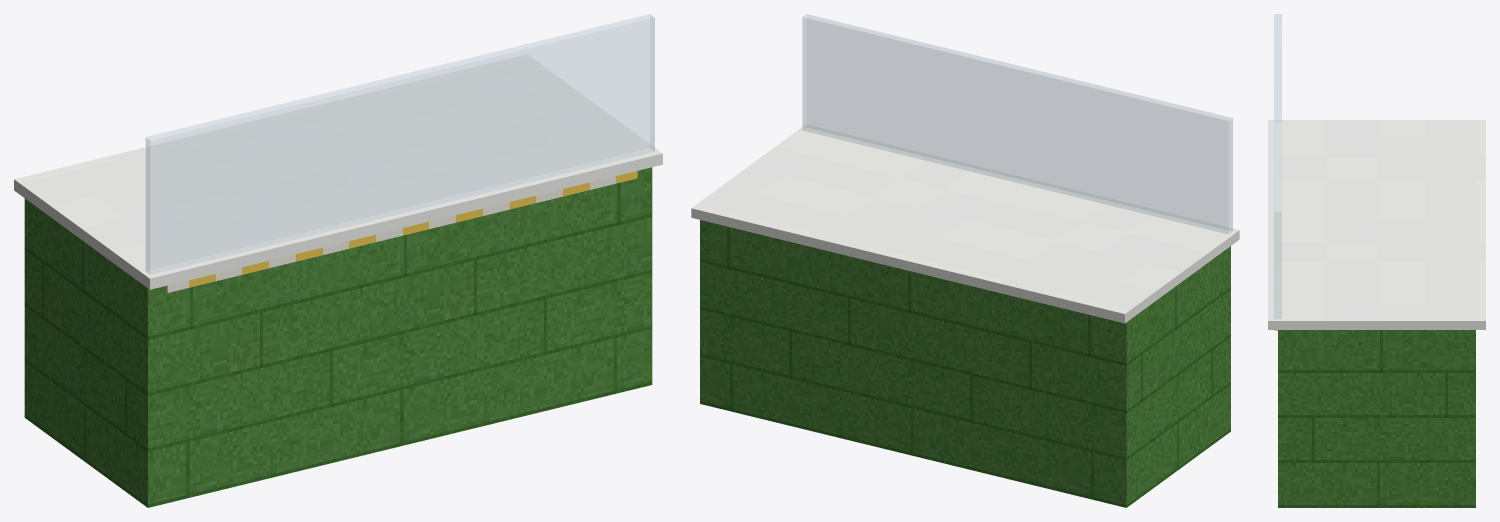
The picture shows the model from 3 angles, left to right: view 1: azimuth 30°, elevation 25°; view 2: azimuth 150°, elevation 25°; view 3: azimuth 270°, elevation 25°; orthographic projection. The views are drawn at different scales.
Parts seen in each view (by area): view 1: Decor_bakery_counter; view 2: Decor_bakery_counter; view 3: Decor_bakery_counter.
Part boxes in pixels (box(x1,y1,x2,y2)): Decor_bakery_counter: box(14, 14, 662, 507); Decor_bakery_counter: box(691, 14, 1239, 507); Decor_bakery_counter: box(1268, 14, 1485, 507).
Bounding box in the file's own units: 2.4 × 1.65 × 1.1.
4 materials, 4 textured.
